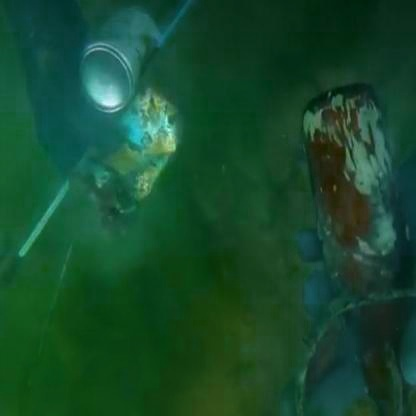can: (82, 12, 164, 103)
pbottle: (288, 75, 416, 347)
